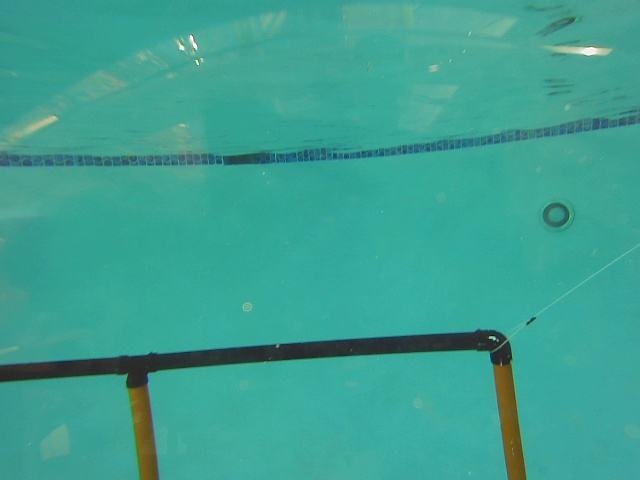Gate: (488, 358, 532, 480), (124, 380, 165, 480)
